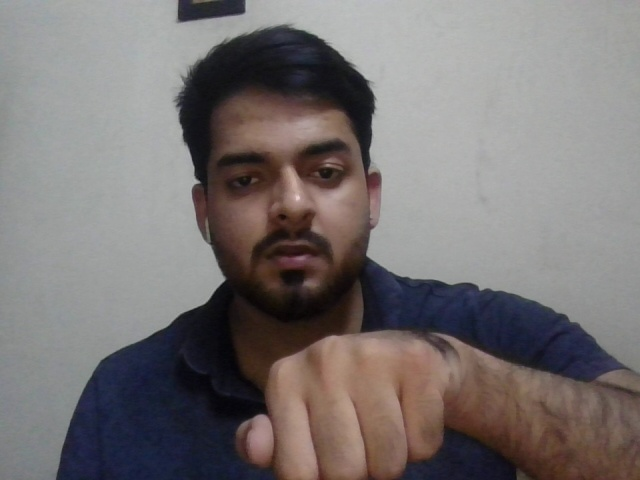yes: (233, 322, 449, 479)
